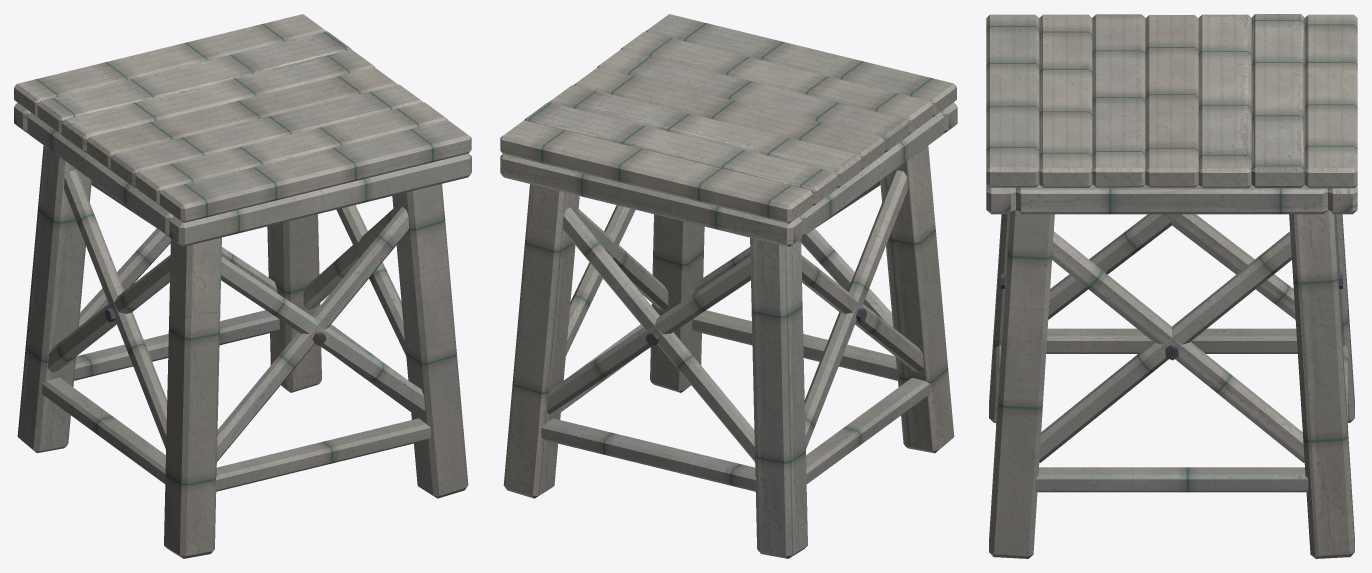
Rendered from kule_tabani.glb.
3 renders of one model, left to right at view 1: azimuth 30°, elevation 25°; view 2: azimuth 150°, elevation 25°; view 3: azimuth 270°, elevation 25°, orthographic. The views are drawn at different scales.
Parts seen in each view (by area): view 1: kule_tabani; view 2: kule_tabani; view 3: kule_tabani.
Boxes of the visible parts, x1,y1,x2,y2 form: kule_tabani: (14, 14, 471, 558); kule_tabani: (500, 14, 957, 558); kule_tabani: (986, 14, 1357, 558).
Bounding box in the file's own units: 3 × 3.51 × 3.
Materials: 1 (1 with a texture image).
